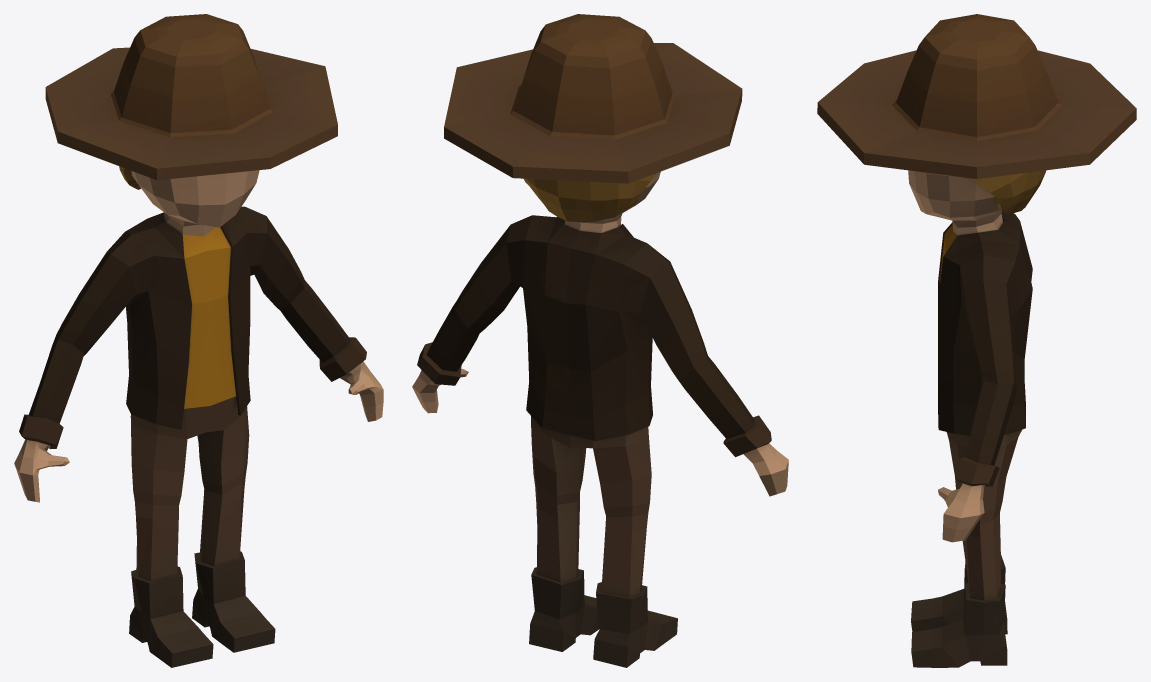
3 views of the same model, side by side, from view 1: azimuth 30°, elevation 25°; view 2: azimuth 150°, elevation 25°; view 3: azimuth 270°, elevation 25° (orthographic).
Parts seen in each view (by area): view 1: Character_Cube; view 2: Character_Cube; view 3: Character_Cube.
Part boxes in pixels (bbox=[...]): Character_Cube: bbox=[14, 14, 383, 667]; Character_Cube: bbox=[412, 14, 788, 667]; Character_Cube: bbox=[817, 14, 1136, 667].
Bounding box in the file's own units: 9.64 × 15.39 × 7.29.
